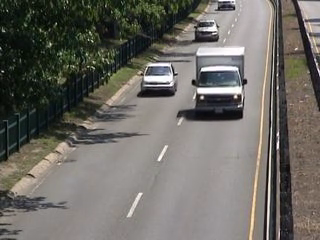car: (140, 60, 178, 98), (194, 17, 221, 42), (216, 1, 239, 13)
truck: (190, 45, 251, 120)
